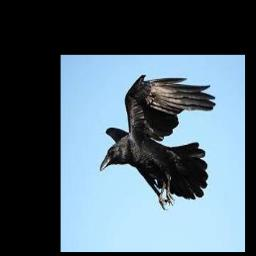Crow: (101, 73, 216, 211)
